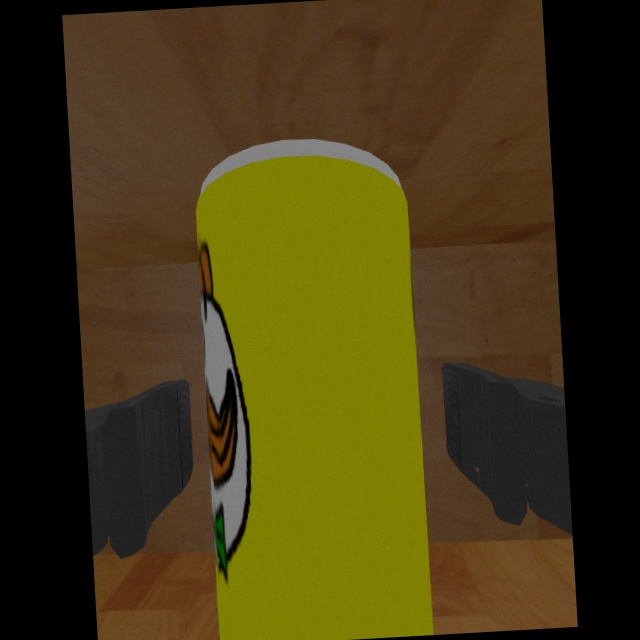chipsdose_gelb: (194, 138, 434, 640)
